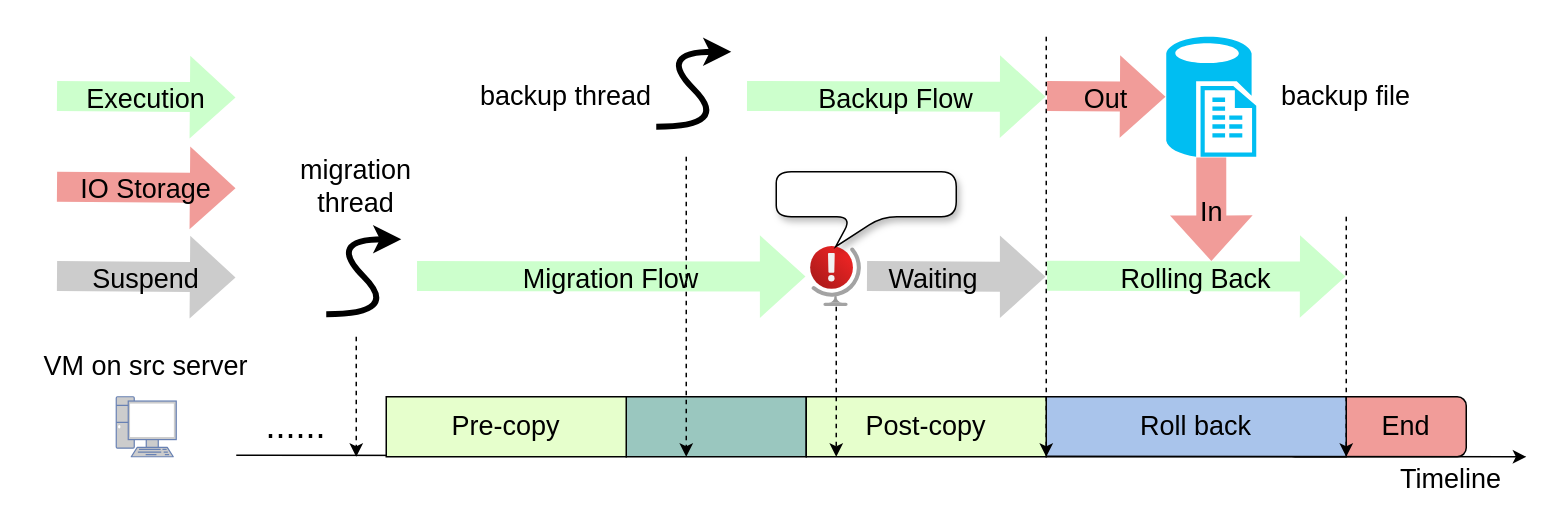
Image size: 1565x528. Some labels were removed from this diagram. Here are the shapes that lost their labels. From the top down, the centre of each, then its label:
At [867,210]: "Error".
At [715,426]: "Downtime".
